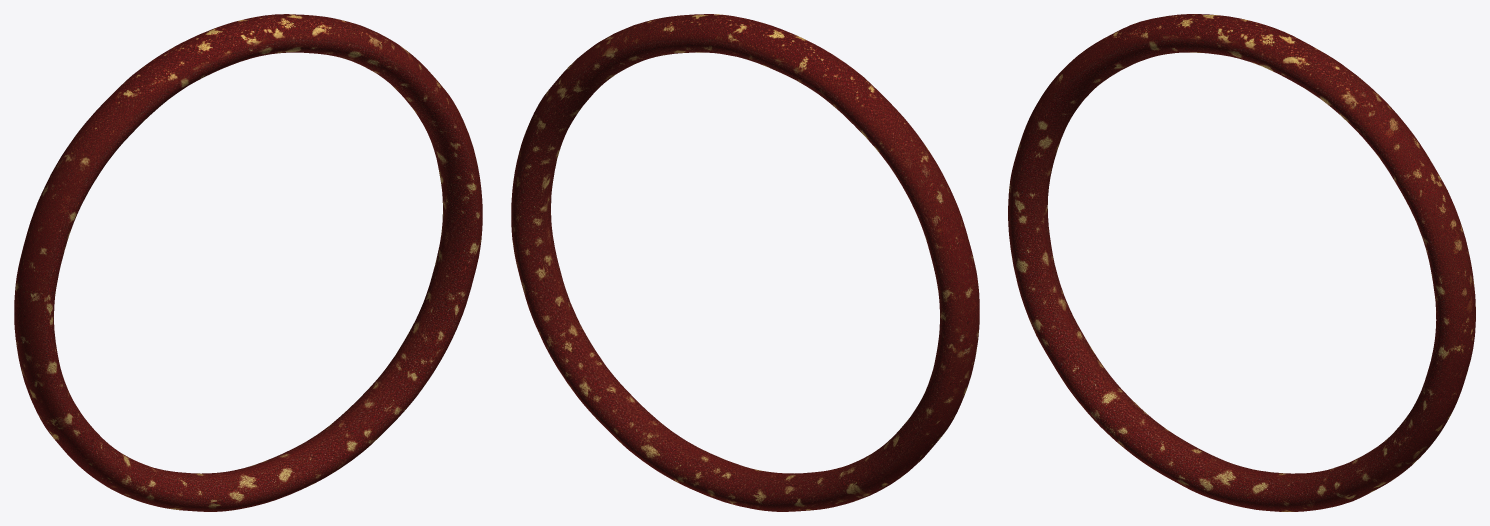
File: ring_lacquer_game.glb
The picture shows the model from 3 angles, left to right: view 1: azimuth 30°, elevation 25°; view 2: azimuth 150°, elevation 25°; view 3: azimuth 330°, elevation 25°; orthographic projection.
Visible parts, largest first — view 1: Mesh_0; view 2: Mesh_0; view 3: Mesh_0.
Part boxes in pixels (x1,y1,x2,y2): Mesh_0: [14, 14, 482, 511]; Mesh_0: [511, 14, 979, 511]; Mesh_0: [1008, 14, 1475, 511].
Bounding box in the file's own units: 2.15 × 2.15 × 0.2071.
1 material, 1 textured.
